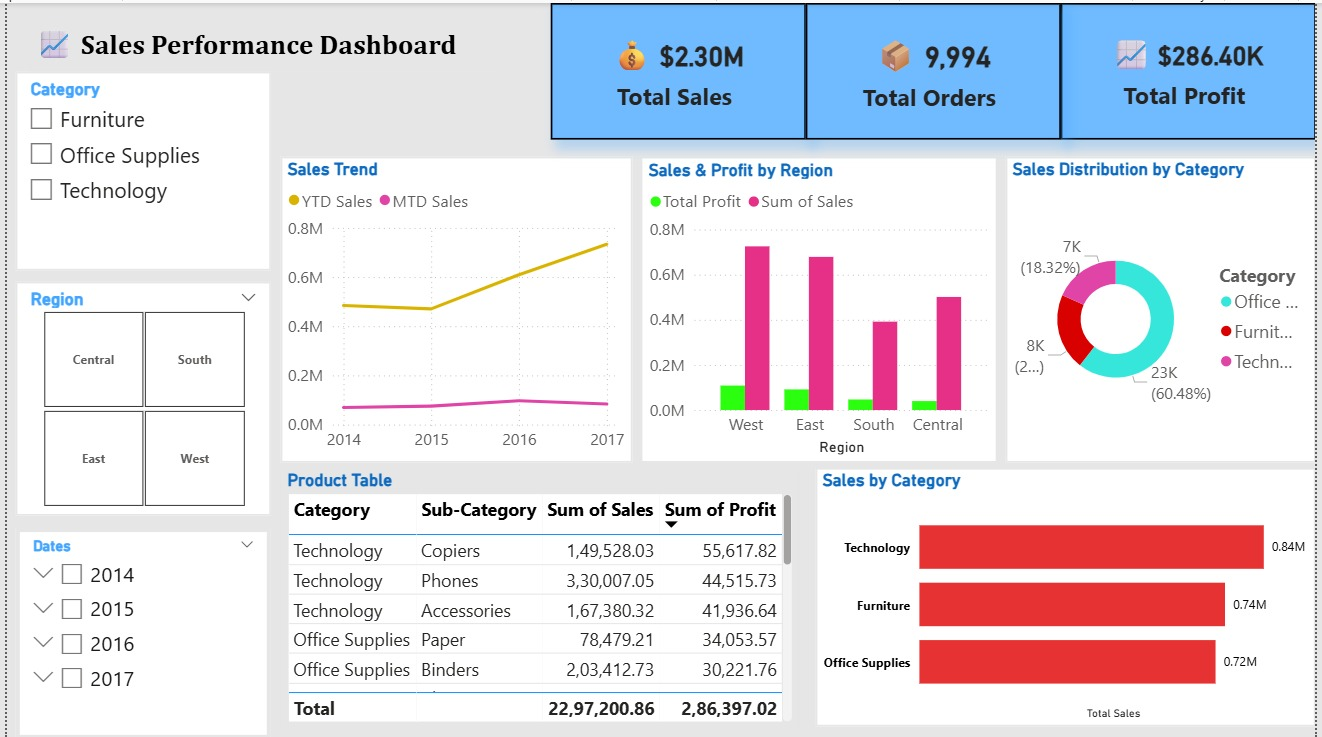

This screenshot's page, from the dashboard's own definition file:
{"tool":"powerbi","page":{"name":"Page 1","canvas":[1280,720],"ordinal":0},"visuals":[{"type":"lineChart","title":"Sales Trend","fields":{"Category":["SuperStore.Order Date.Variation.Date Hierarchy.Year"],"Y":["SuperStore.YTD Sales","SuperStore.MTD Sales"]},"box":[267.8,150.4,343.6,299.6],"z":0},{"type":"clusteredBarChart","title":"Sales by Category","fields":{"Category":["SuperStore.Category"],"Y":["SuperStore.Total Sales"]},"box":[791.2,454.9,489.1,253.1],"z":1000},{"type":"clusteredColumnChart","title":"Sales & Profit by Region","fields":{"Category":["SuperStore.Region"],"Y":["SuperStore.Total Profit","Sum(SuperStore.Sales)"]},"box":[620,150.4,348.5,299.6],"z":2000},{"type":"donutChart","title":"Sales Distribution by Category","fields":{"Category":["SuperStore.Category"],"Y":["Sum(SuperStore.Quantity)"]},"box":[977,150.4,303.3,299.6],"z":3000},{"type":"tableEx","title":"Product Table","fields":{"Values":["SuperStore.Category","SuperStore.Sub-Category","Sum(SuperStore.Sales)","Sum(SuperStore.Profit)"]},"box":[267.8,454.9,507.5,255.6],"z":4000},{"type":"slicer","fields":{"Values":["SuperStore.Category"]},"box":[8.6,67.3,249.5,194.4],"z":5000},{"type":"slicer","fields":{"Values":["SuperStore.Region"]},"box":[8.6,272.7,249.5,228.7],"z":6000},{"type":"card","fields":{"Values":["SuperStore.Total Sales Display"]},"box":[531.9,0,249.5,133.3],"z":7000},{"type":"card","fields":{"Values":["SuperStore.Total Profit Display"]},"box":[1030.8,0,249.5,133.3],"z":8000},{"type":"card","fields":{"Values":["SuperStore.Total Orders Display"]},"box":[781.4,0,249.5,133.3],"z":9000},{"type":"textbox","box":[23.2,15.9,453.7,51.4],"z":10000},{"type":"slicer","fields":{"Values":["SuperStore.Order Date.Variation.Date Hierarchy.Year","SuperStore.Order Date.Variation.Date Hierarchy.Quarter","SuperStore.Order Date.Variation.Date Hierarchy.Month","SuperStore.Order Date.Variation.Date Hierarchy.Day"]},"box":[8.6,513.6,249.5,206.7],"z":11000}]}

Visuals, with their boxes in screenshot pixels (x1, y1, x2, y2), scaled from the page's 1280x720 canvas onto the 1322x737 screenshot:
"Sales Trend" lineChart: bbox=[277, 154, 631, 461]
"Sales by Category" clusteredBarChart: bbox=[817, 466, 1321, 725]
"Sales & Profit by Region" clusteredColumnChart: bbox=[640, 154, 1000, 461]
"Sales Distribution by Category" donutChart: bbox=[1009, 154, 1321, 461]
"Product Table" tableEx: bbox=[277, 466, 801, 727]
slicer - SuperStore.Category: bbox=[9, 69, 267, 268]
slicer - SuperStore.Region: bbox=[9, 279, 267, 513]
card - SuperStore.Total Sales Display: bbox=[549, 0, 807, 136]
card - SuperStore.Total Profit Display: bbox=[1065, 0, 1321, 136]
card - SuperStore.Total Orders Display: bbox=[807, 0, 1065, 136]
textbox: bbox=[24, 16, 493, 69]
slicer - SuperStore.Order Date.Variation.Date Hierarchy.Year x SuperStore.Order Date.Variation.Date Hierarchy.Quarter: bbox=[9, 526, 267, 736]
